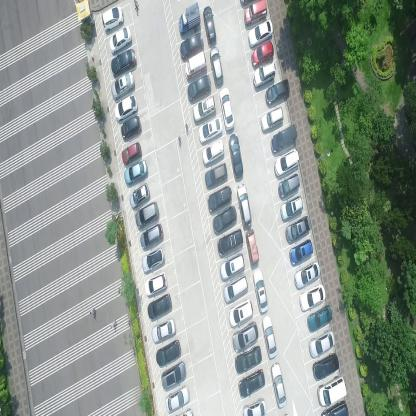car: (238, 366, 266, 400), (318, 375, 346, 408), (232, 320, 259, 354), (298, 283, 326, 313), (234, 345, 262, 375), (270, 123, 297, 154), (222, 274, 249, 305), (161, 359, 186, 392), (273, 148, 300, 178), (284, 214, 311, 244), (294, 260, 321, 290), (306, 304, 333, 334), (312, 352, 339, 382), (270, 363, 288, 408), (178, 1, 201, 35), (309, 328, 335, 358), (217, 227, 243, 257), (111, 47, 137, 77), (179, 30, 204, 61), (242, 0, 268, 29), (219, 252, 245, 281), (155, 338, 181, 367), (212, 204, 237, 234), (227, 134, 244, 178), (134, 201, 160, 229), (147, 293, 173, 321), (248, 19, 273, 48), (289, 238, 314, 267), (265, 78, 289, 108), (187, 74, 211, 104), (229, 298, 253, 328), (262, 315, 278, 360), (124, 158, 148, 188), (219, 86, 235, 130), (207, 184, 232, 212), (141, 246, 166, 274), (260, 105, 284, 134), (192, 94, 216, 123), (108, 25, 132, 54), (111, 70, 135, 99), (114, 93, 138, 122), (253, 268, 268, 314), (237, 182, 252, 227), (198, 116, 222, 144), (166, 384, 190, 412), (252, 61, 275, 90), (184, 51, 207, 80), (201, 138, 225, 165), (204, 162, 228, 189), (140, 222, 164, 249), (280, 194, 303, 222), (277, 172, 300, 199), (101, 5, 124, 32), (209, 46, 224, 87), (152, 318, 176, 343), (251, 40, 273, 66), (120, 114, 142, 140), (128, 183, 150, 209), (144, 273, 168, 296), (203, 4, 216, 44), (245, 230, 259, 266), (121, 141, 142, 164), (320, 400, 349, 416), (242, 398, 267, 416)
